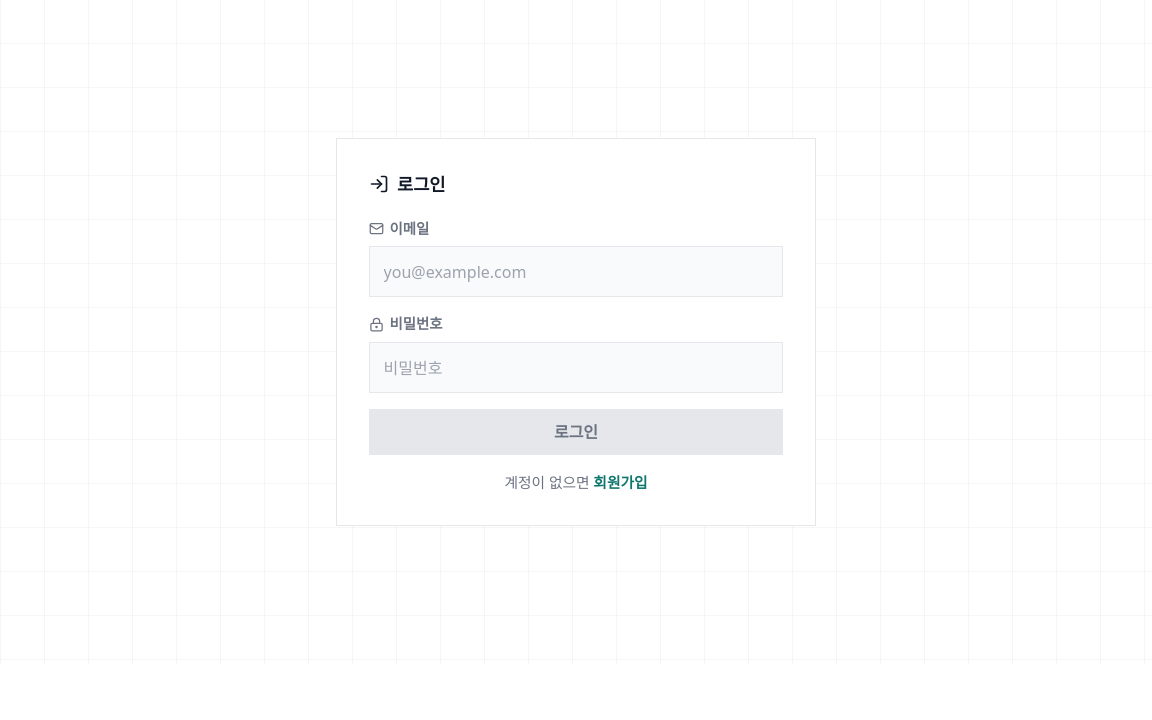
Test: LoginView › submits login, stores auth state, and shows success
Type "login@example.com" into the field with test id "login-email". click: (576, 272)
box: x1=369 y1=246 x2=783 y2=297
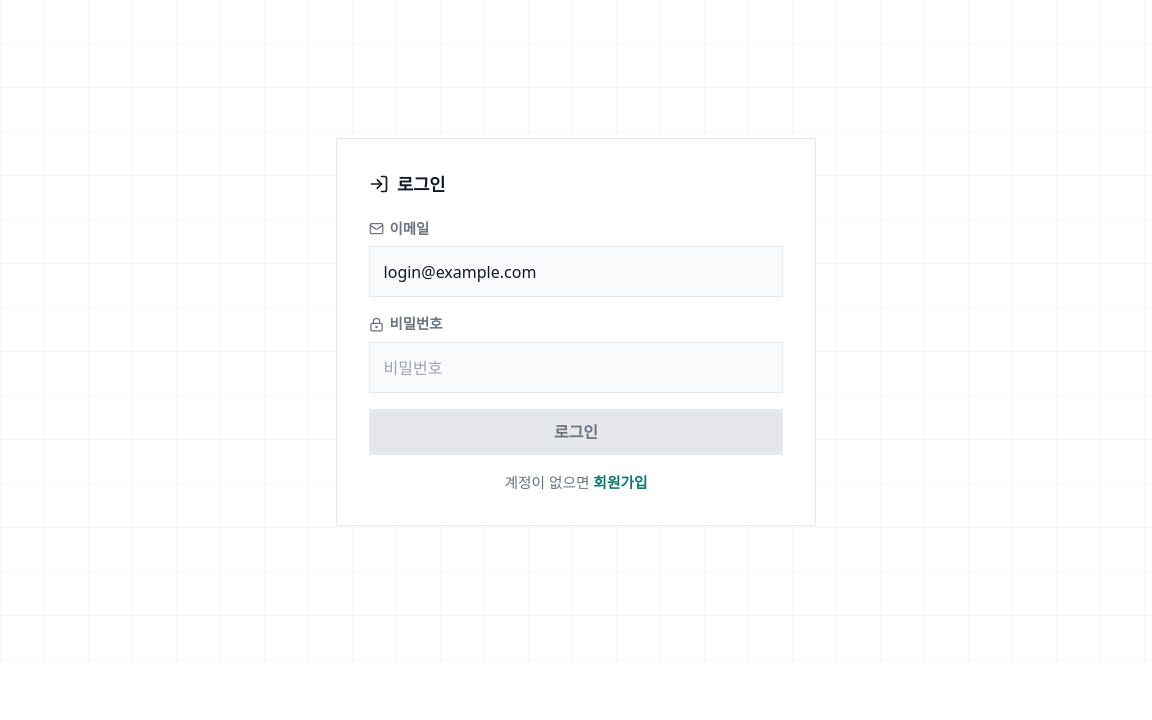
Type "Bench1234" into the password field with test id "login-password". click: (576, 368)
box: x1=369 y1=342 x2=783 y2=393
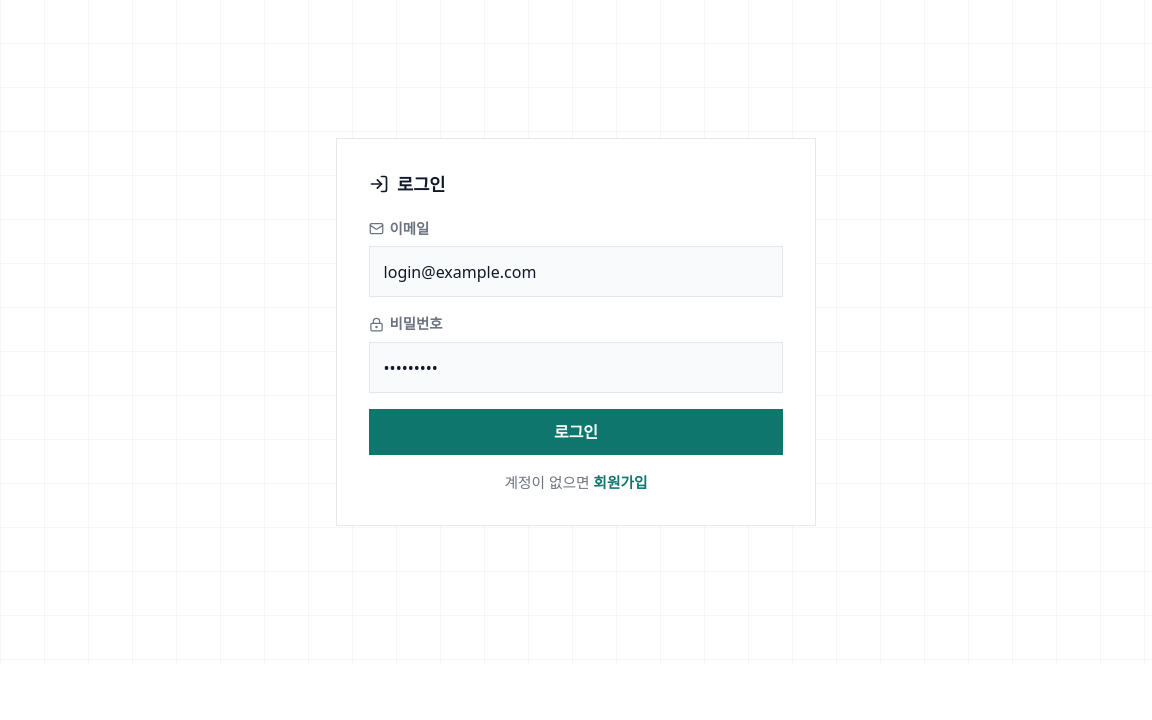
Submit the form with test id "login-form", box x1=337 y1=139 x2=815 y2=525
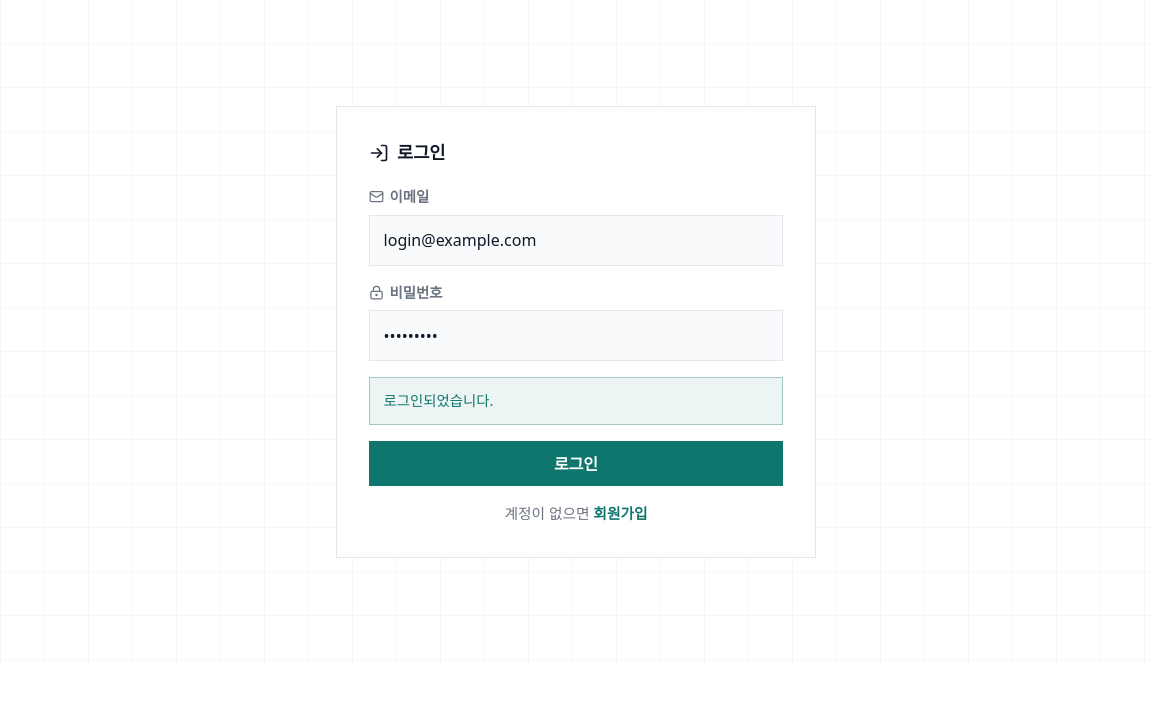
Expected: the text with test id "login-success" shows "로그인", x1=369 y1=377 x2=783 y2=425
